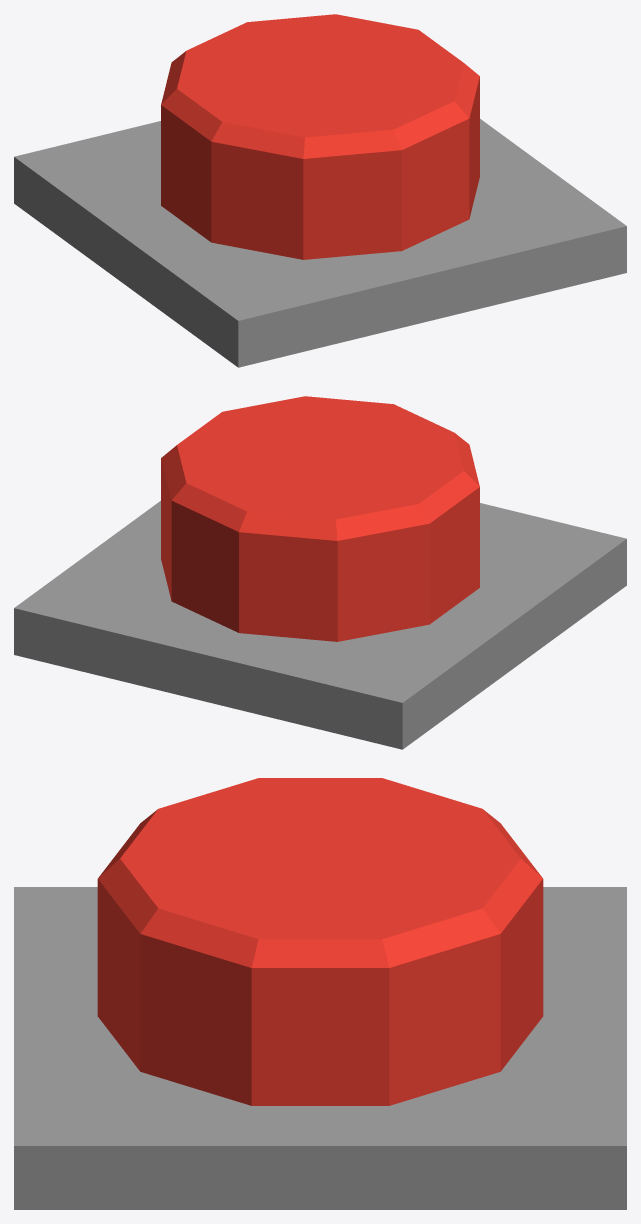
Rendered from Button Switch.glb.
3 views of the same model, one above another, from view 1: azimuth 30°, elevation 25°; view 2: azimuth 150°, elevation 25°; view 3: azimuth 270°, elevation 25° (orthographic). The views are drawn at different scales.
Parts seen in each view (by area): view 1: group114495047, group1983936034; view 2: group114495047, group1983936034; view 3: group114495047, group1983936034.
Part boxes in pixels (box(x1,y1,x2,y2)): group114495047: box(161, 14, 479, 259); group1983936034: box(14, 119, 626, 367); group114495047: box(161, 396, 479, 641); group1983936034: box(14, 501, 626, 749); group114495047: box(97, 778, 543, 1105); group1983936034: box(14, 887, 626, 1209).
Bounding box in the file's own units: 1.39 × 0.5549 × 1.39.
